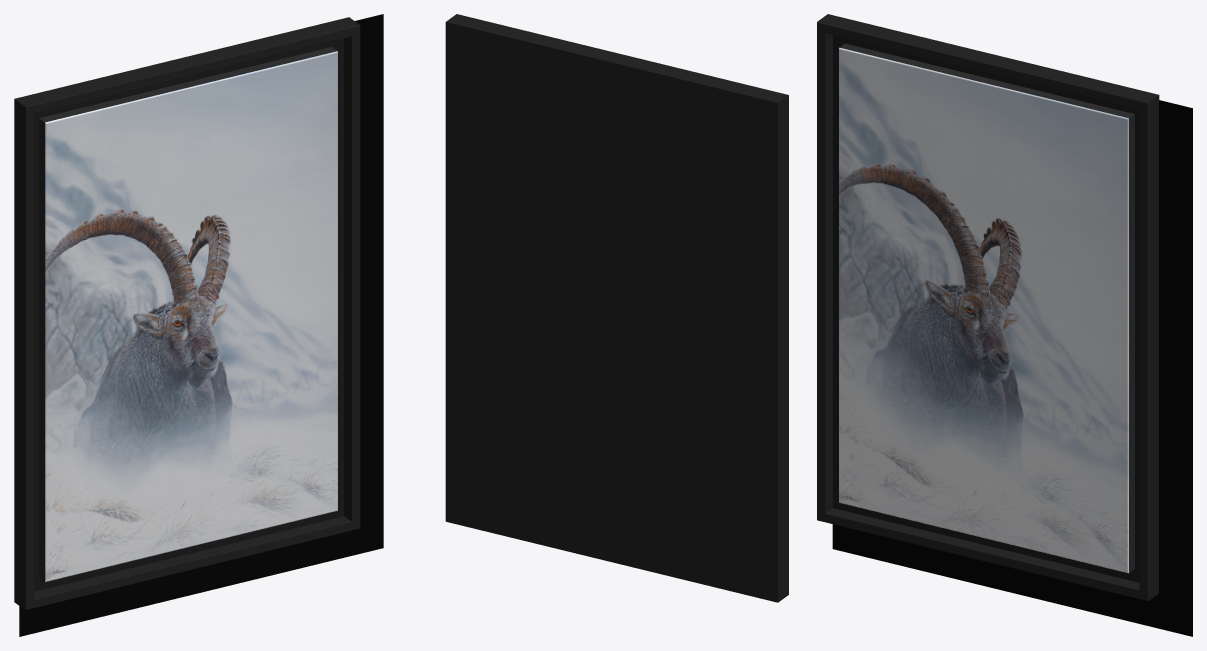
The model's file is tableau-peinture-ibex-classique-3f3c16ec.glb.
3 views of the same model, side by side, from view 1: azimuth 30°, elevation 25°; view 2: azimuth 150°, elevation 25°; view 3: azimuth 330°, elevation 25° (orthographic).
Parts seen in each view (by area): view 1: Painting; view 2: Painting; view 3: Painting.
Boxes of the visible parts, box(x1,y1,x2,y2) form: Painting: box(14, 14, 383, 636); Painting: box(445, 14, 788, 602); Painting: box(817, 14, 1192, 636).
Size of the model in its own units: 0.756 by 1.06 by 0.04.
5 materials, 3 textured.
